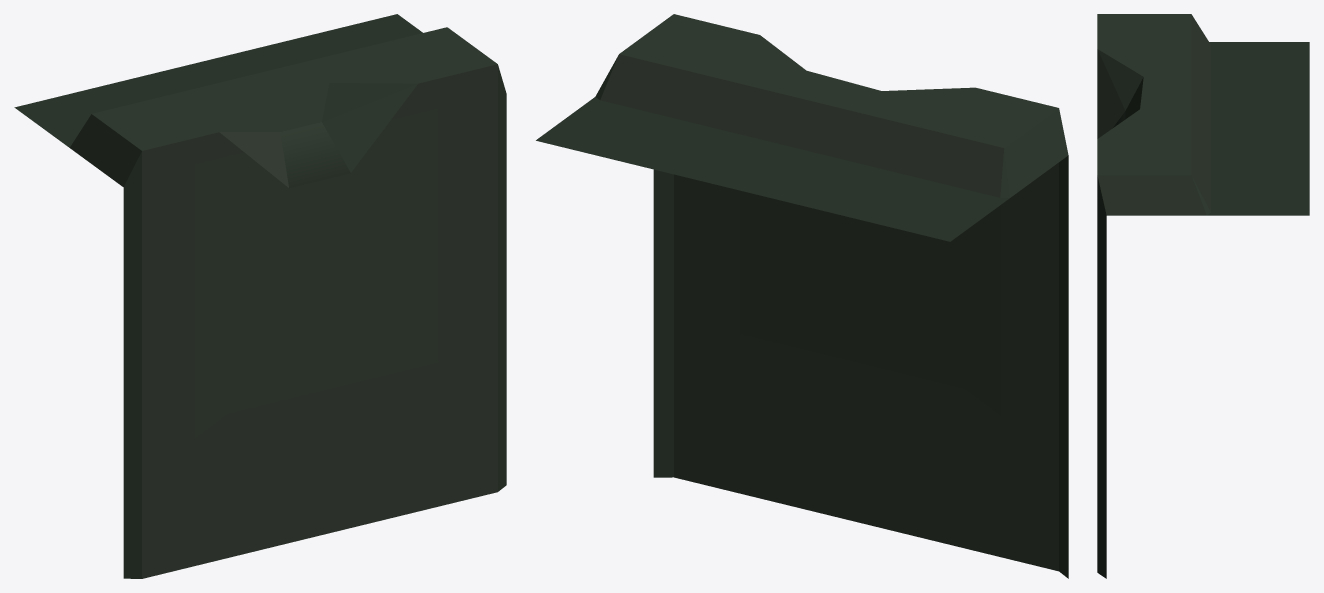
The model's file is SF_Bld_Elven_Blockwall_02.glb.
3 renders of one model, left to right at view 1: azimuth 30°, elevation 25°; view 2: azimuth 150°, elevation 25°; view 3: azimuth 270°, elevation 25°, orthographic. The views are drawn at different scales.
Parts seen in each view (by area): view 1: SF_Bld_Elven_Blockwall_02; view 2: SF_Bld_Elven_Blockwall_02; view 3: SF_Bld_Elven_Blockwall_02.
Boxes of the visible parts, x1,y1,x2,y2 form: SF_Bld_Elven_Blockwall_02: [14, 14, 506, 578]; SF_Bld_Elven_Blockwall_02: [536, 14, 1068, 578]; SF_Bld_Elven_Blockwall_02: [1097, 14, 1309, 578].
Size of the model in its own units: 0.1 by 0.1067 by 0.0516.
Materials: 1 (1 with a texture image).
